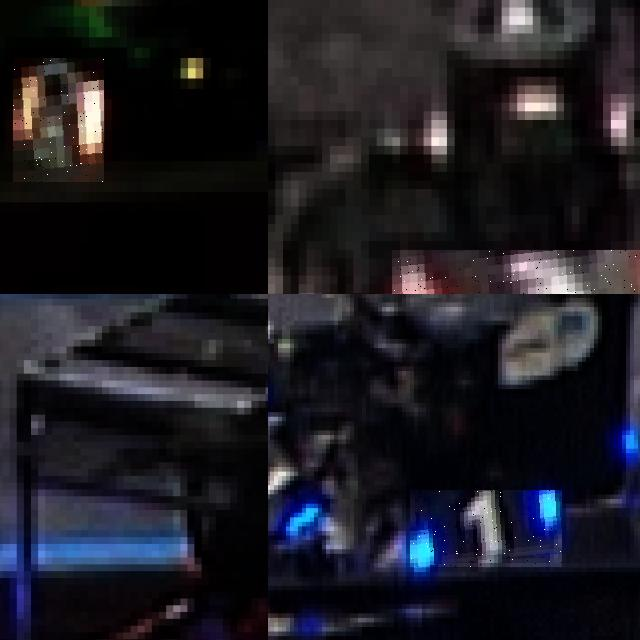B1: (410, 490, 562, 567), (268, 430, 322, 540)
R3: (392, 249, 640, 294)
Rs: (13, 58, 104, 182)
